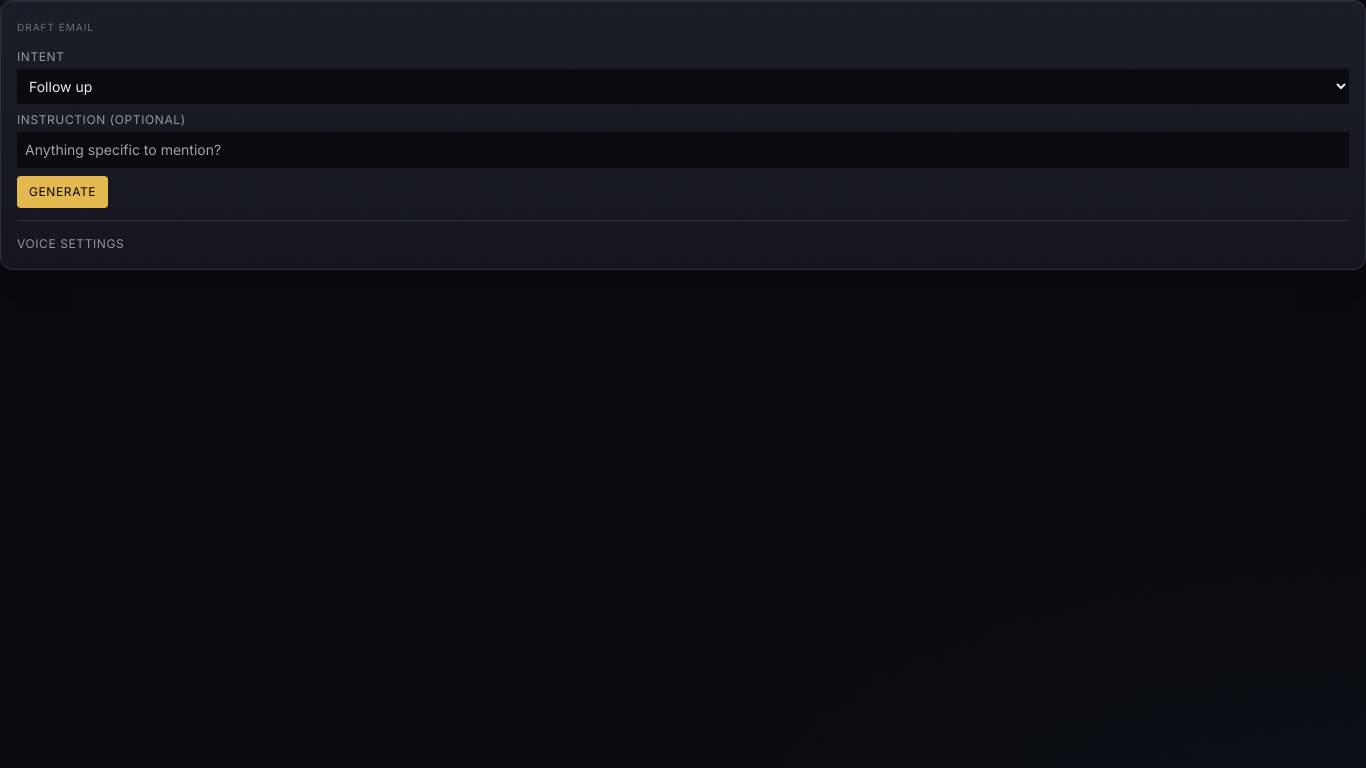
Test: DraftEmailPanel — compose › generate populates editable subject and body inputs from draftEmail's response
The image size is (1366, 768).
Click the button "Generate": (63, 192) [17,176,108,208]
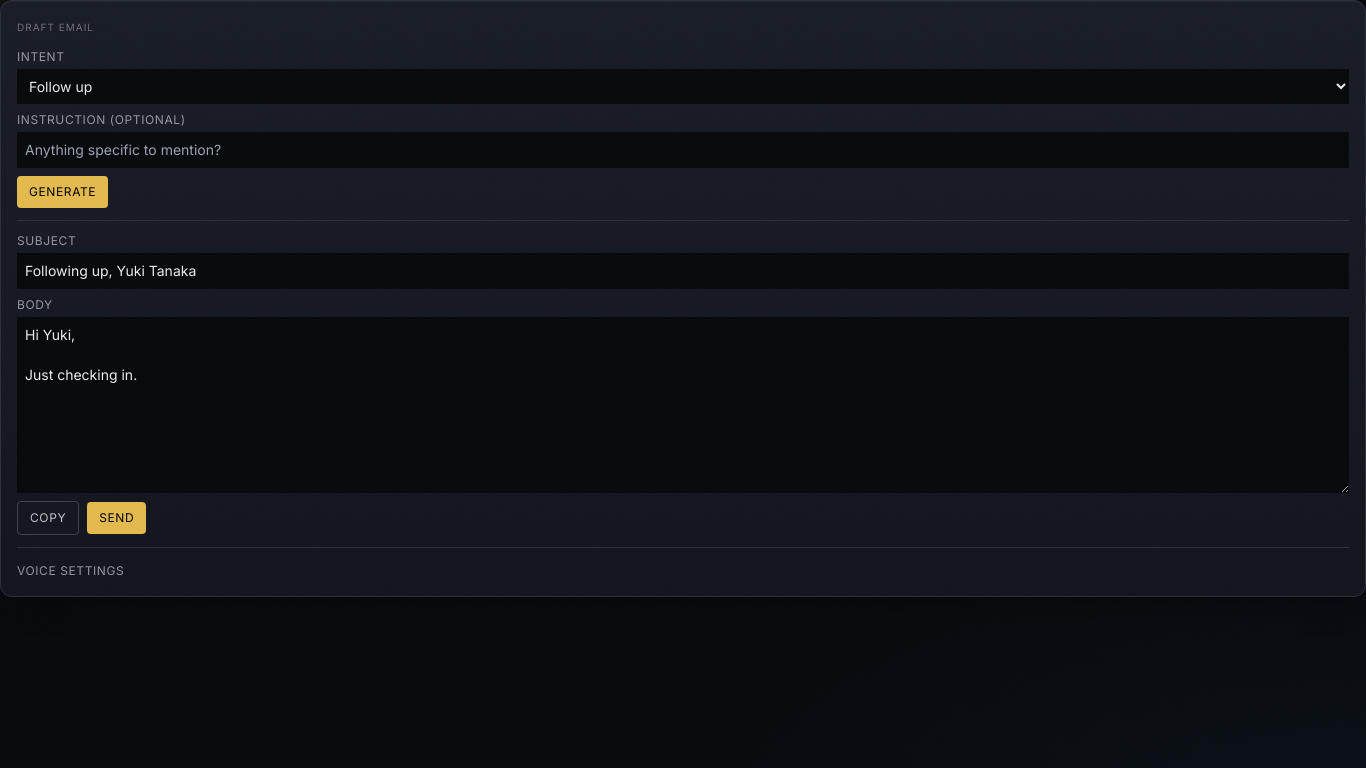
Now the field named "draft subject" holds "Following up, Yuki Tanaka", box [17,253,1349,289]
